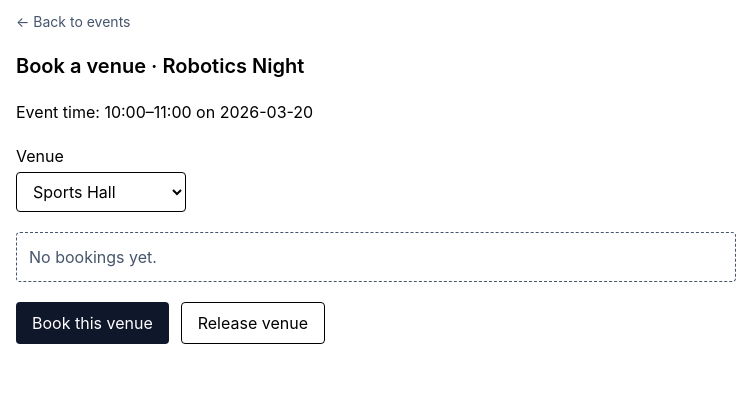
OfficerVenuePage › releases an existing booking idempotently
The image size is (753, 403).
Click the button "Release venue" at (253, 323), box [181,302,325,344]
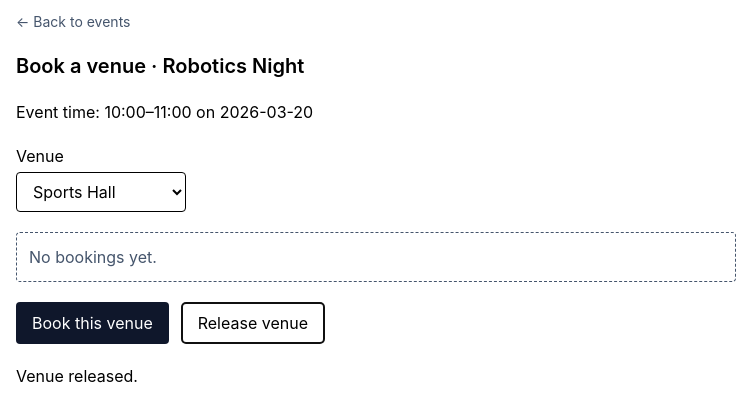
Expected: the message named "booking result" reads "Venue released.", [16,366,138,386]
